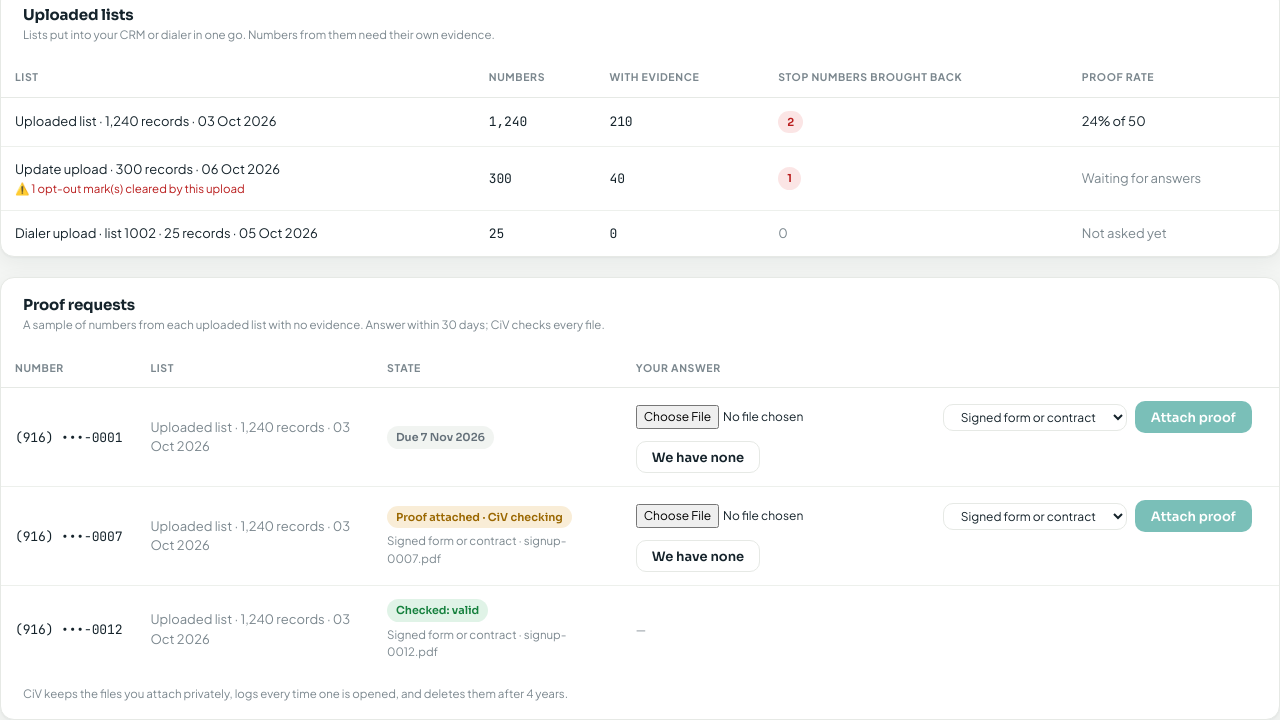
Scenario: Lead Provenance (Module 8) › lets an Admin answer a proof request with "We have none"
(page scrolled)
Expected: the text "Due 7 Nov 2026" is shown, [387,426,494,449]
Click the button "We have none" in the row of "(916) •••-0001".
click(698, 457)  # box [636,441,760,473]
(page scrolled)
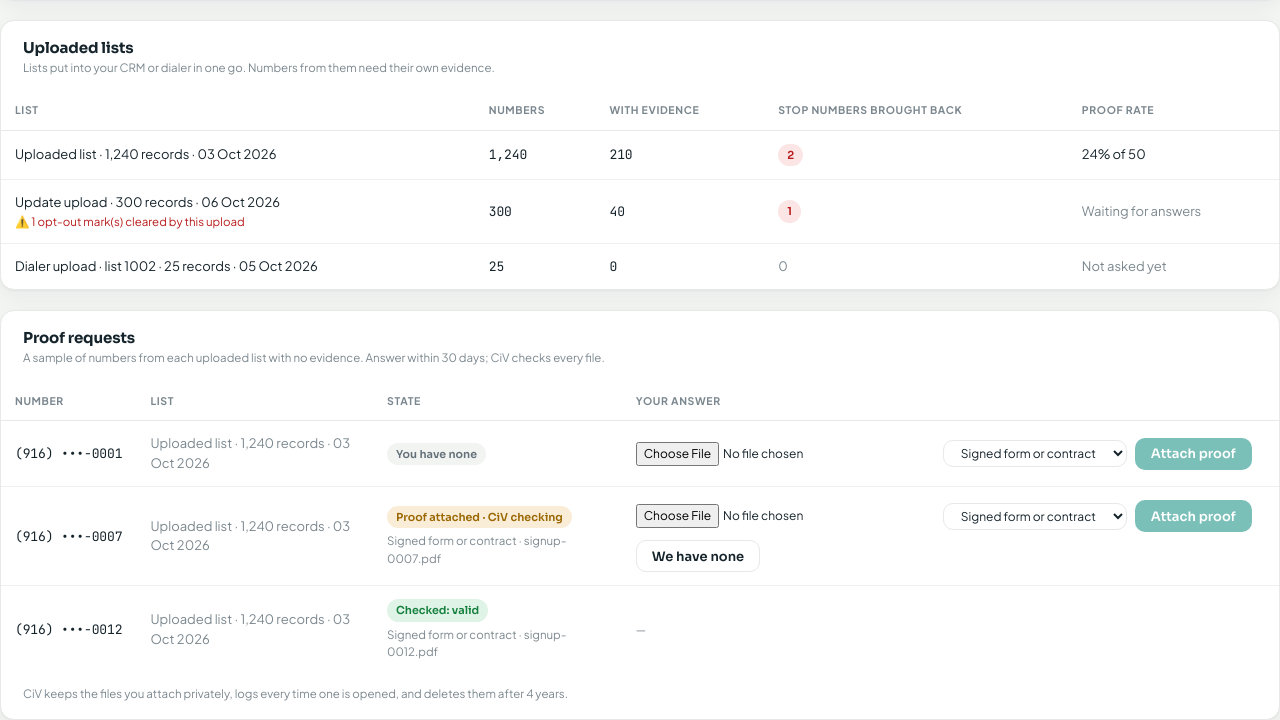
Expected: the text "You have none" is shown, [387,443,486,465]
